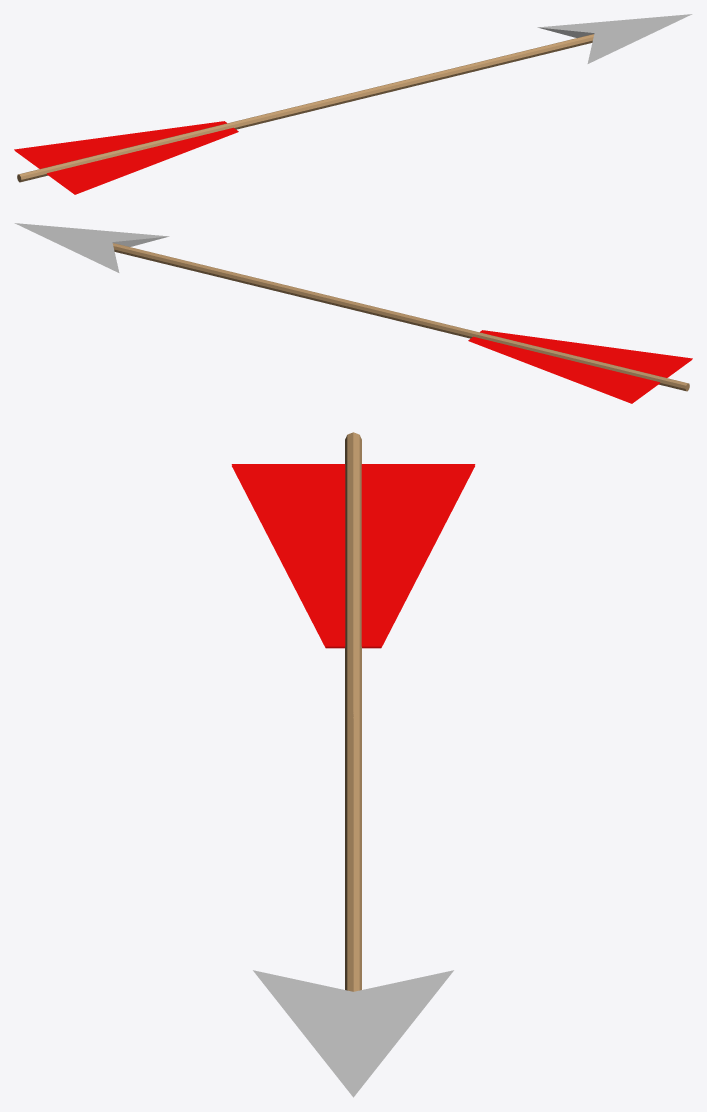
Rendered from arrow_prefab.fbx.
The picture shows the model from 3 angles, top to bottom: view 1: azimuth 30°, elevation 25°; view 2: azimuth 150°, elevation 25°; view 3: azimuth 270°, elevation 25°; orthographic projection. The views are drawn at different scales.
Parts seen in each view (by area): view 1: Cube.001, Cylinder, Cube; view 2: Cube.001, Cylinder, Cube; view 3: Cube.001, Cube, Cylinder.
Boxes of the visible parts, x1,y1,x2,y2 form: Cube.001: (14,121,238,194); Cylinder: (17,34,594,182); Cube: (537,14,692,63); Cube.001: (468,330,692,403); Cylinder: (112,243,689,391); Cube: (14,223,169,272); Cube.001: (231,464,475,648); Cube: (253,970,453,1097); Cylinder: (345,432,361,991).
Size of the model in its own units: 360 by 4.98 by 56.47.
